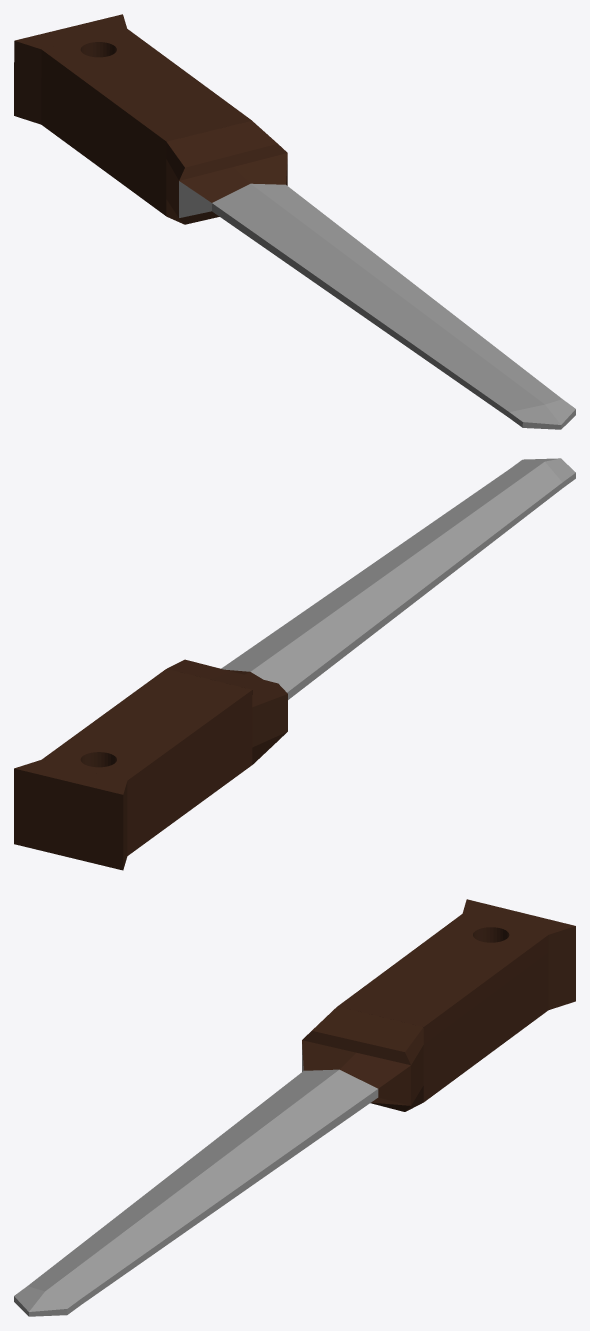
The picture shows the model from 3 angles, top to bottom: view 1: azimuth 30°, elevation 25°; view 2: azimuth 150°, elevation 25°; view 3: azimuth 330°, elevation 25°; orthographic projection.
Parts seen in each view (by area): view 1: Plane.005; view 2: Plane.005; view 3: Plane.005.
Boxes of the visible parts, x1=… form: Plane.005: x1=14, y1=14, x2=575, y2=429; Plane.005: x1=14, y1=458, x2=575, y2=870; Plane.005: x1=14, y1=899, x2=575, y2=1316.
Bounding box in the file's own units: 10.5 × 7 × 81.89.
